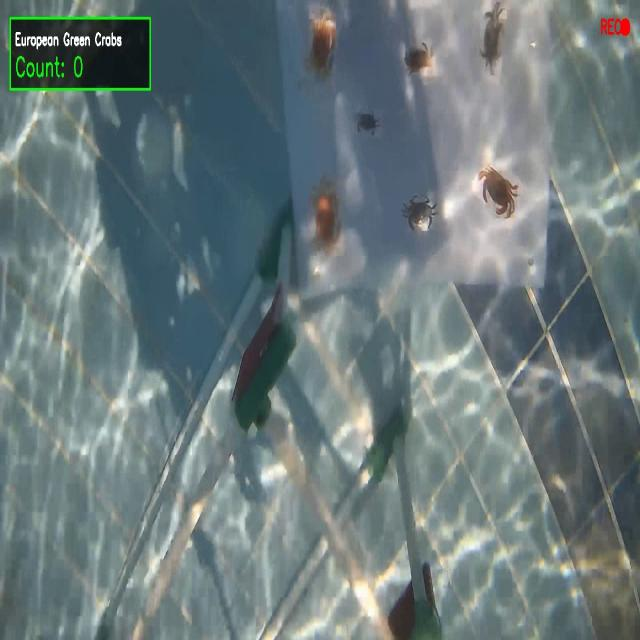European_Green_Crab: (475, 1, 509, 83), (402, 185, 439, 241), (355, 101, 381, 143)
